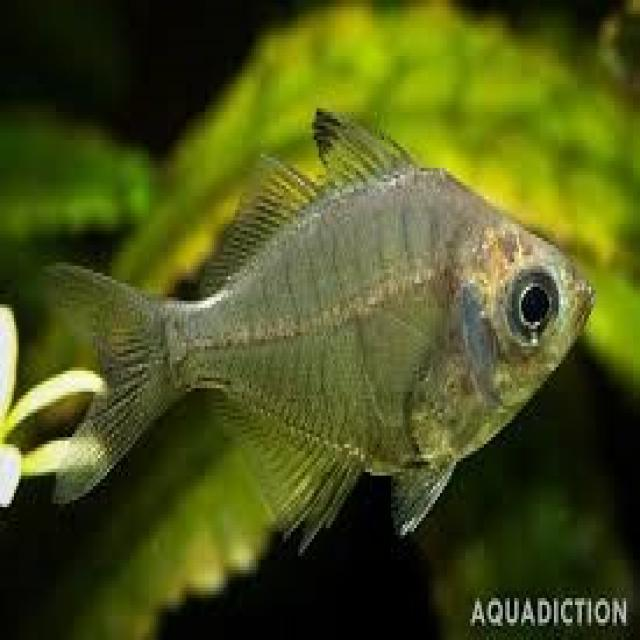Glass-Perchlet: (23, 118, 615, 583)
